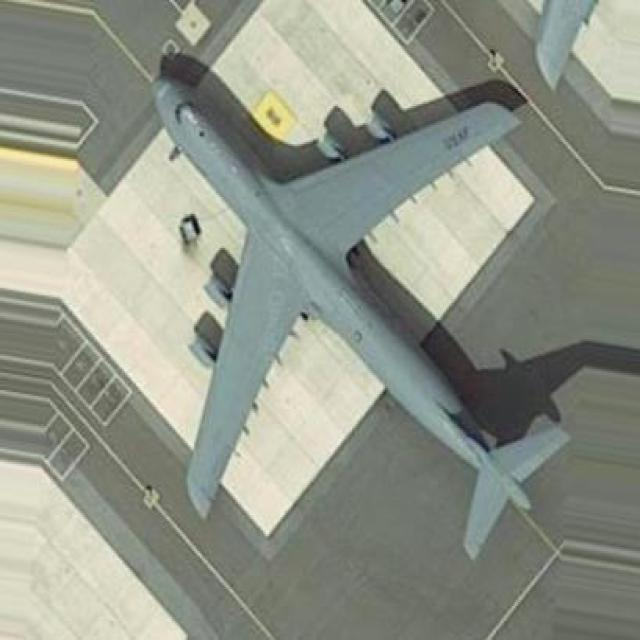C-5_TopDown: (145, 49, 592, 558)
